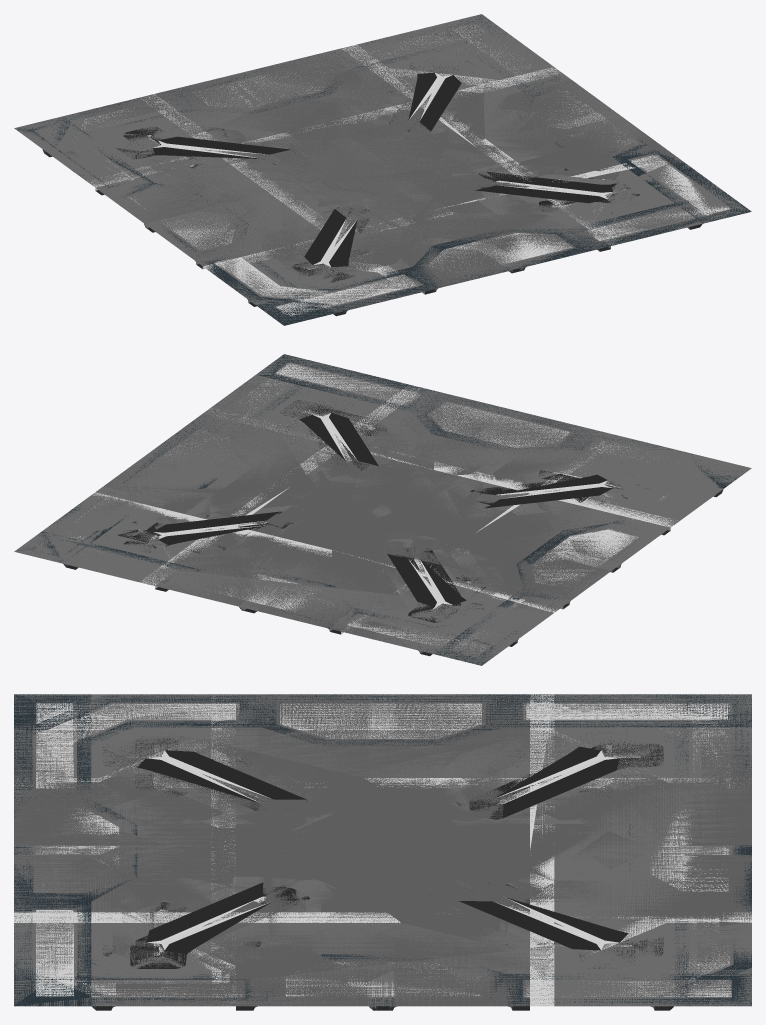
The model's file is Grounds.fbx.
3 views of the same model, one above another, from view 1: azimuth 30°, elevation 25°; view 2: azimuth 150°, elevation 25°; view 3: azimuth 270°, elevation 25° (orthographic). The views are drawn at different scales.
Parts seen in each view (by area): view 1: Ground, Ground_CornerConcave_180, Ground_CornerConvex_00, Ground_CornerConcave_00, Ground_Corner_00, Ground_CornerConcave_270, Ground_CornerConcave_90, Ground_Corner_270, Ground_CornerConvex_270, Ground_Corner_90, Ground_CornerConvex_90, Ground_Corner_180 (+1 smaller); view 2: Ground_CornerConcave_00, Ground_CornerConcave_90, Ground_CornerConvex_00, Ground_Corner_00, Ground, Ground_Corner_90, Ground_CornerConcave_180, Ground_CornerConvex_180, Ground_Corner_180, Ground_Corner_270, Ground_CornerConvex_90, Ground_CornerConcave_270 (+1 smaller); view 3: Ground_CornerConcave_270, Ground_CornerConvex_00, Ground_CornerConcave_00, Ground_CornerConcave_90, Ground_CornerConcave_180, Ground_Corner_00, Ground_Corner_180, Ground_CornerConvex_180, Ground_CornerConvex_270, Ground_CornerConvex_90, Ground_Corner_270, Ground_Corner_90.
Part boxes in pixels (x1,y1,x2,y2): Ground: (57, 25, 625, 321); Ground_CornerConcave_180: (14, 15, 743, 321); Ground_CornerConvex_00: (15, 16, 749, 310); Ground_CornerConcave_00: (60, 15, 750, 325); Ground_Corner_00: (61, 14, 751, 325); Ground_CornerConcave_270: (133, 14, 699, 294); Ground_CornerConcave_90: (43, 14, 719, 311); Ground_Corner_270: (96, 21, 749, 298); Ground_CornerConvex_270: (74, 32, 687, 315); Ground_Corner_90: (80, 16, 644, 316); Ground_CornerConvex_90: (72, 18, 695, 324); Ground_Corner_180: (44, 19, 701, 325); Ground_CornerConcave_00: (16, 356, 741, 664); Ground_CornerConcave_90: (115, 354, 751, 665); Ground_CornerConvex_00: (14, 354, 701, 665); Ground_Corner_00: (17, 356, 715, 664); Ground: (137, 354, 744, 607); Ground_Corner_90: (118, 356, 664, 655); Ground_CornerConcave_180: (40, 354, 673, 663); Ground_CornerConvex_180: (53, 362, 670, 664); Ground_Corner_180: (41, 357, 715, 661); Ground_Corner_270: (72, 363, 717, 665); Ground_CornerConvex_90: (17, 373, 647, 643); Ground_CornerConcave_270: (19, 354, 736, 579); Ground_CornerConcave_270: (14, 694, 751, 1009); Ground_CornerConvex_00: (14, 694, 751, 1010); Ground_CornerConcave_00: (14, 694, 751, 1006); Ground_CornerConcave_90: (14, 694, 751, 1006); Ground_CornerConcave_180: (14, 694, 751, 1010); Ground_Corner_00: (14, 694, 751, 1010); Ground_Corner_180: (14, 694, 751, 1010); Ground_CornerConvex_180: (14, 694, 751, 1006); Ground_CornerConvex_270: (14, 694, 751, 1006); Ground_CornerConvex_90: (14, 695, 751, 1010); Ground_Corner_270: (14, 706, 751, 1005); Ground_Corner_90: (21, 694, 748, 1004).
Size of the model in its own units: 400 by 2.64 by 400.
